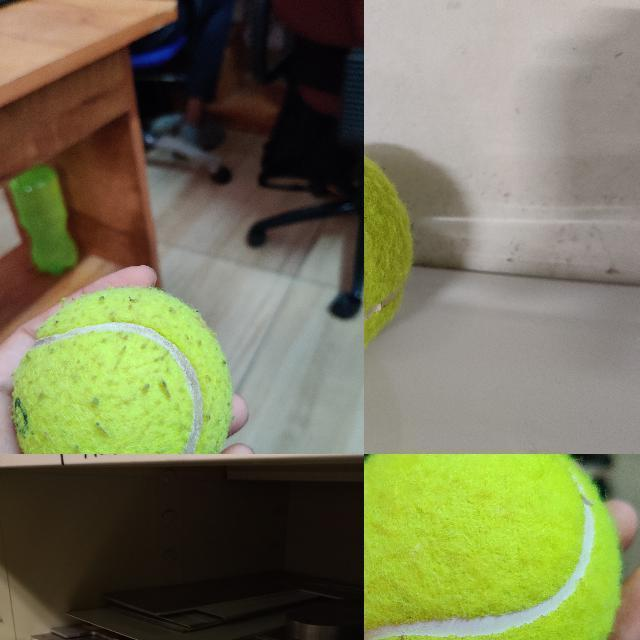tennis-ball: (364, 454, 619, 639), (10, 286, 233, 453), (364, 127, 417, 372)
